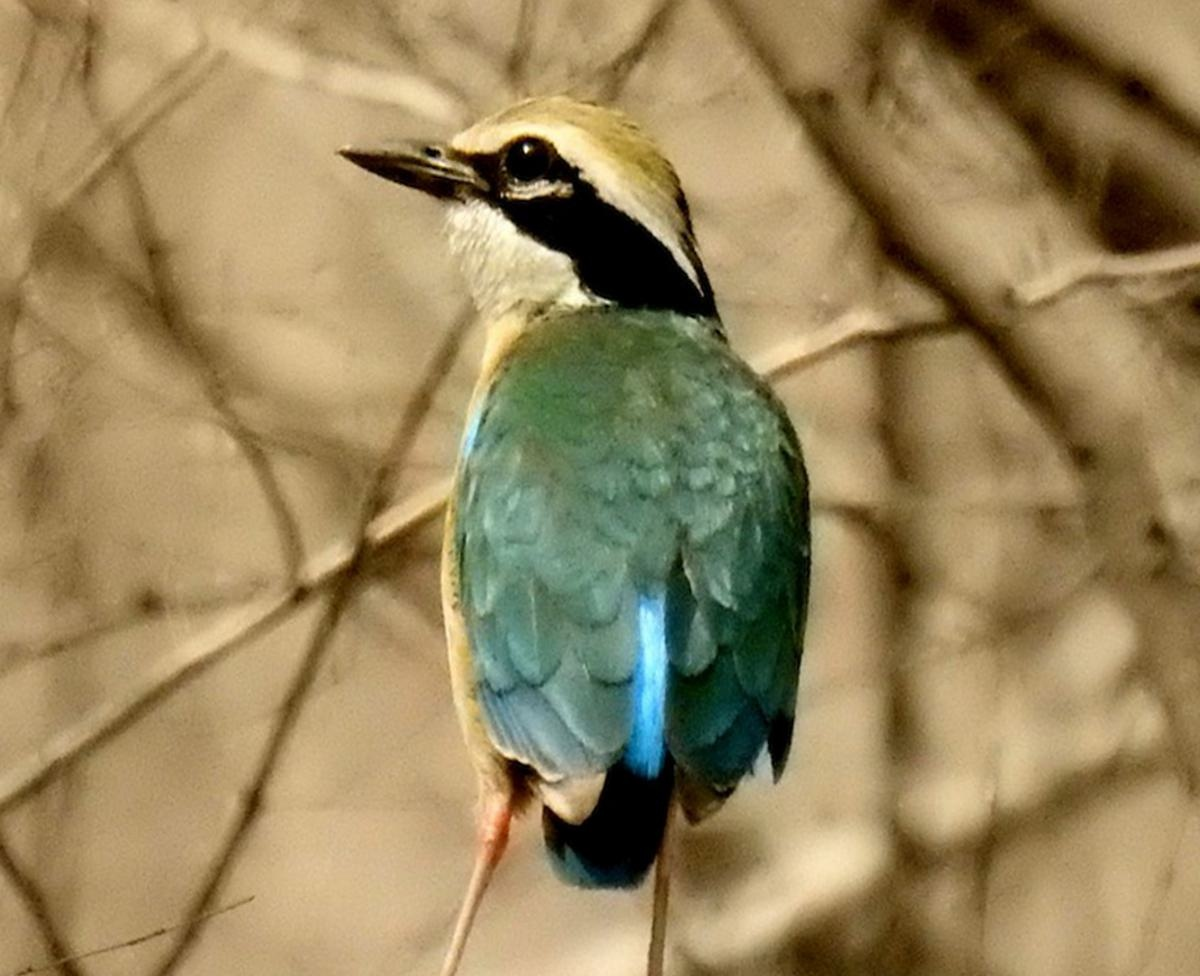pitta: (345, 106, 861, 909)
